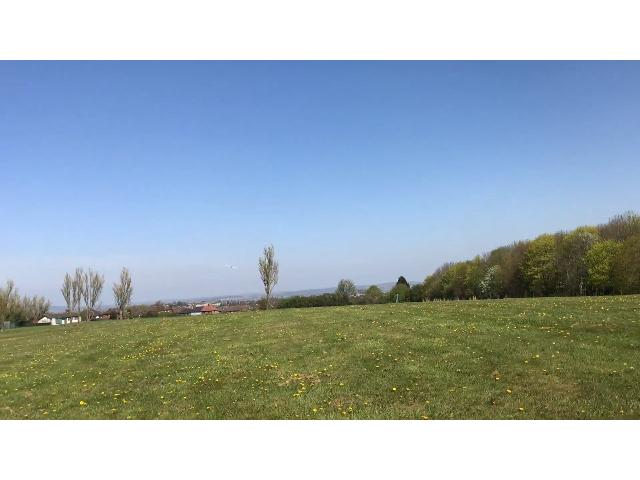Anti-Drone: (217, 262, 247, 272)
